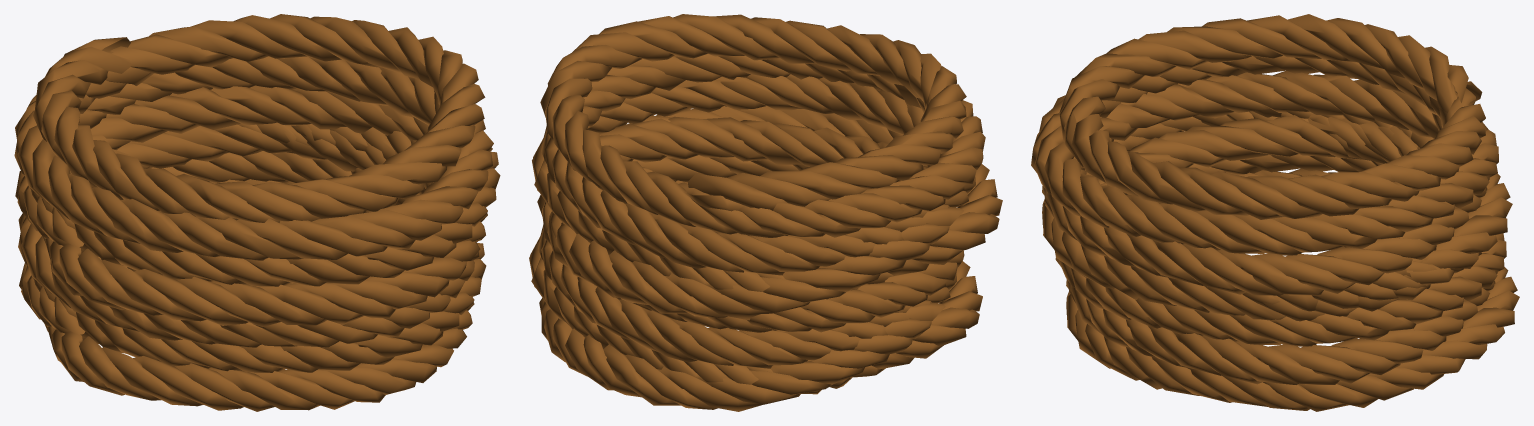
File: wrapping_rope.fbx
The picture shows the model from 3 angles, left to right: view 1: azimuth 30°, elevation 25°; view 2: azimuth 150°, elevation 25°; view 3: azimuth 270°, elevation 25°; orthographic projection. The views are drawn at different scales.
Parts seen in each view (by area): view 1: Rope.004; view 2: Rope.004; view 3: Rope.004.
Part boxes in pixels (x1,y1,x2,y2): Rope.004: (14, 14, 500, 411); Rope.004: (529, 14, 1002, 411); Rope.004: (1031, 14, 1519, 411).
Size of the model in its own units: 71.83 by 39.71 by 73.94.
